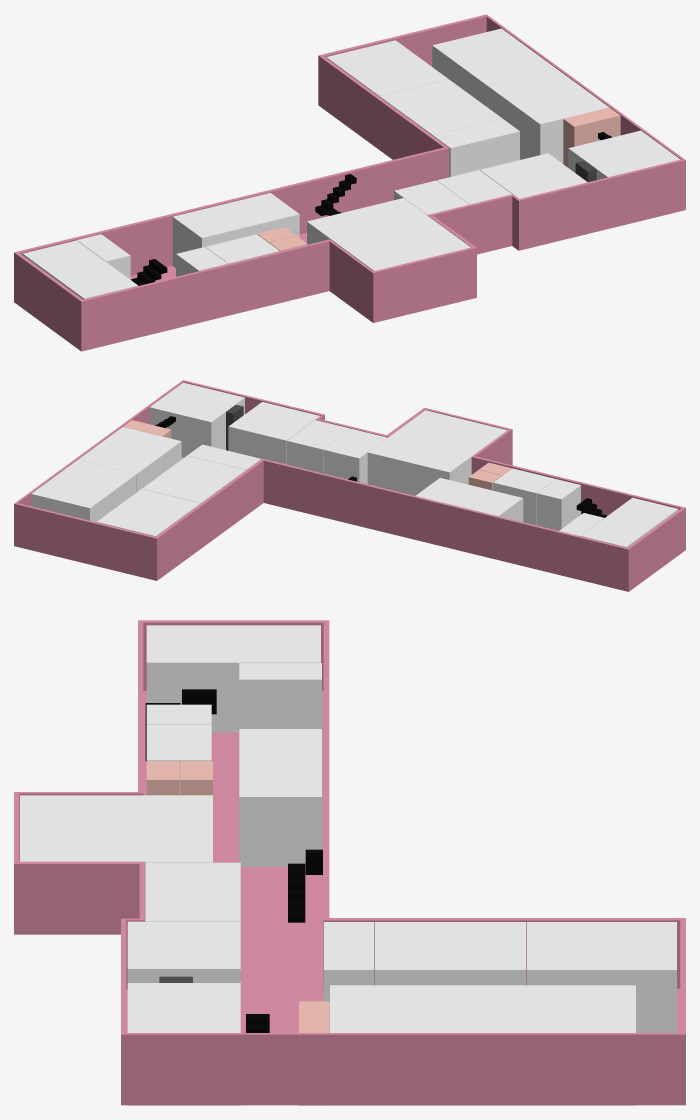
3 views of the same model, one above another, from view 1: azimuth 30°, elevation 25°; view 2: azimuth 150°, elevation 25°; view 3: azimuth 270°, elevation 25° (orthographic). The views are drawn at different scales.
Visible parts, largest first — view 1: object, 420, 428, 429, キャリア形成支援課第2事務室, 426, 427, 教務課第2事務室, 425, 424, 423, 女子トイレ_4_2_2 (+7 smaller); view 2: object, 420, 429, 424, 428, 423, 427, 426, 教務課第2事務室, キャリア形成支援課第2事務室, 421, 422 (+7 smaller); view 3: object, 420, 427, キャリア形成支援課第2事務室, 教務課第2事務室, 426, 429, 428, 423, 424, ATM, 425 (+9 smaller).
Boxes of the visible parts, x1,y1,x2,y2 form: object: (14, 14, 685, 351); 420: (307, 198, 470, 270); 428: (487, 68, 609, 163); 429: (432, 28, 555, 106); キャリア形成支援課第2事務室: (172, 193, 299, 267); 426: (379, 79, 501, 135); 427: (326, 40, 448, 96); 教務課第2事務室: (22, 240, 138, 299); 425: (433, 118, 519, 177); 424: (568, 130, 680, 179); 423: (480, 153, 587, 198); 女子トイレ_4_2_2: (563, 107, 620, 167); object: (14, 380, 685, 591); 420: (367, 410, 507, 495); 429: (31, 460, 136, 522); 424: (149, 382, 244, 457); 428: (78, 427, 181, 492); 423: (228, 402, 319, 464); 427: (97, 489, 200, 536); 426: (142, 455, 245, 503); 教務課第2事務室: (580, 497, 678, 547); キャリア形成支援課第2事務室: (415, 478, 523, 521); 421: (323, 429, 387, 483); 422: (287, 420, 350, 473); object: (14, 620, 685, 1105); 420: (20, 795, 212, 921); 427: (526, 922, 676, 1032); キャリア形成支援課第2事務室: (239, 729, 321, 866); 教務課第2事務室: (146, 625, 320, 732); 426: (374, 922, 525, 985); 429: (481, 985, 635, 1105); 428: (330, 985, 480, 1105); 423: (127, 921, 240, 982); 424: (127, 983, 240, 1105); ATM: (239, 663, 321, 728); 425: (324, 922, 373, 1032).
Size of the model in its own units: 2.89 by 0.238 by 1.98.
